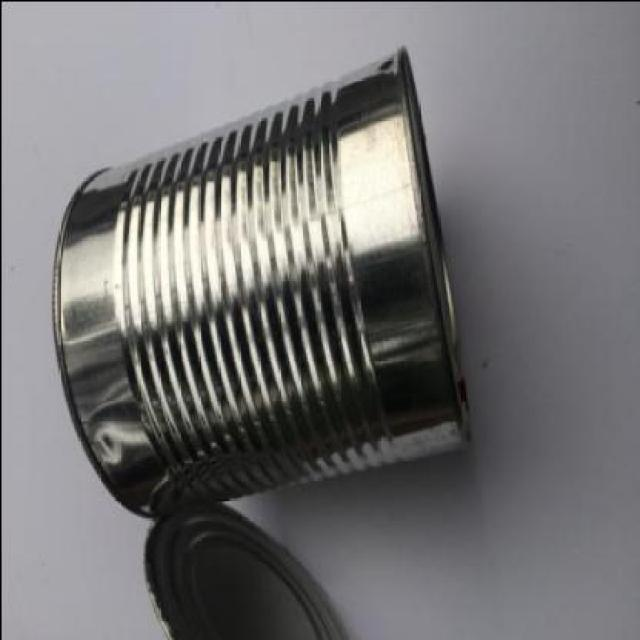METAL: (50, 44, 470, 522), (140, 502, 378, 638)
